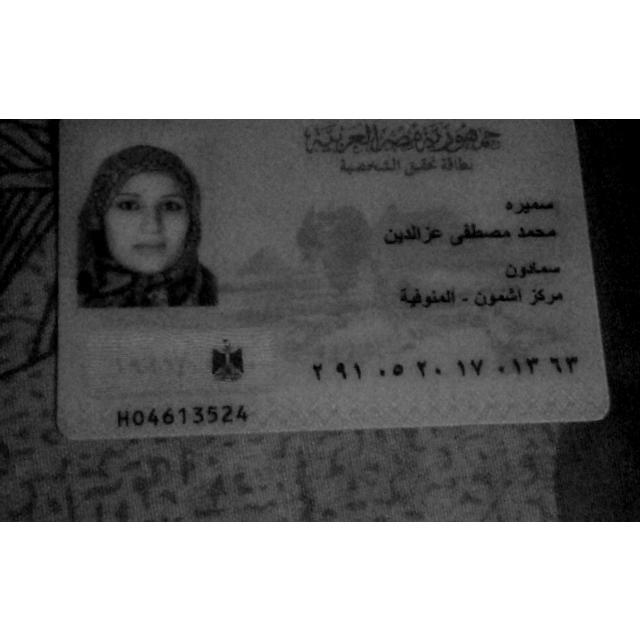id_card: (55, 118, 609, 437)
